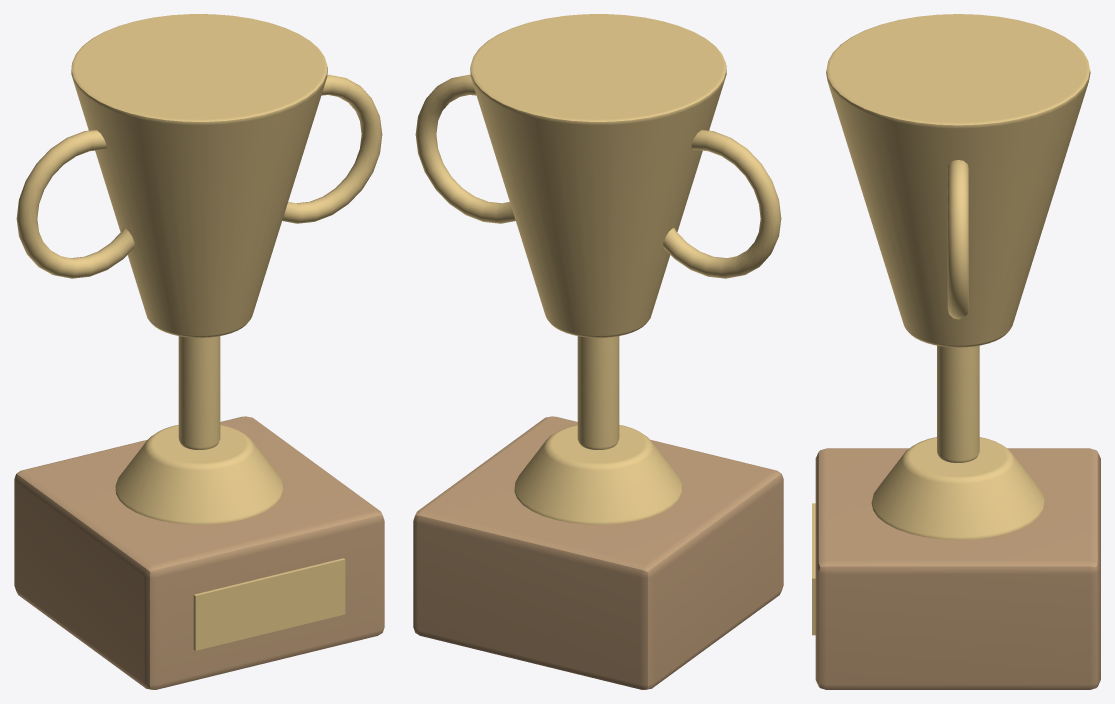
The model's file is trinket_trophy.glb.
3 views of the same model, side by side, from view 1: azimuth 30°, elevation 25°; view 2: azimuth 150°, elevation 25°; view 3: azimuth 270°, elevation 25° (orthographic). The views are drawn at different scales.
Visible parts, largest first — view 1: SM_trinket_trophy; view 2: SM_trinket_trophy; view 3: SM_trinket_trophy.
Part boxes in pixels (x1,y1,x2,y2): SM_trinket_trophy: (14,14,384,689); SM_trinket_trophy: (413,14,783,689); SM_trinket_trophy: (812,14,1100,689).
Bounding box in the file's own units: 0.242 × 0.35 × 0.162.
